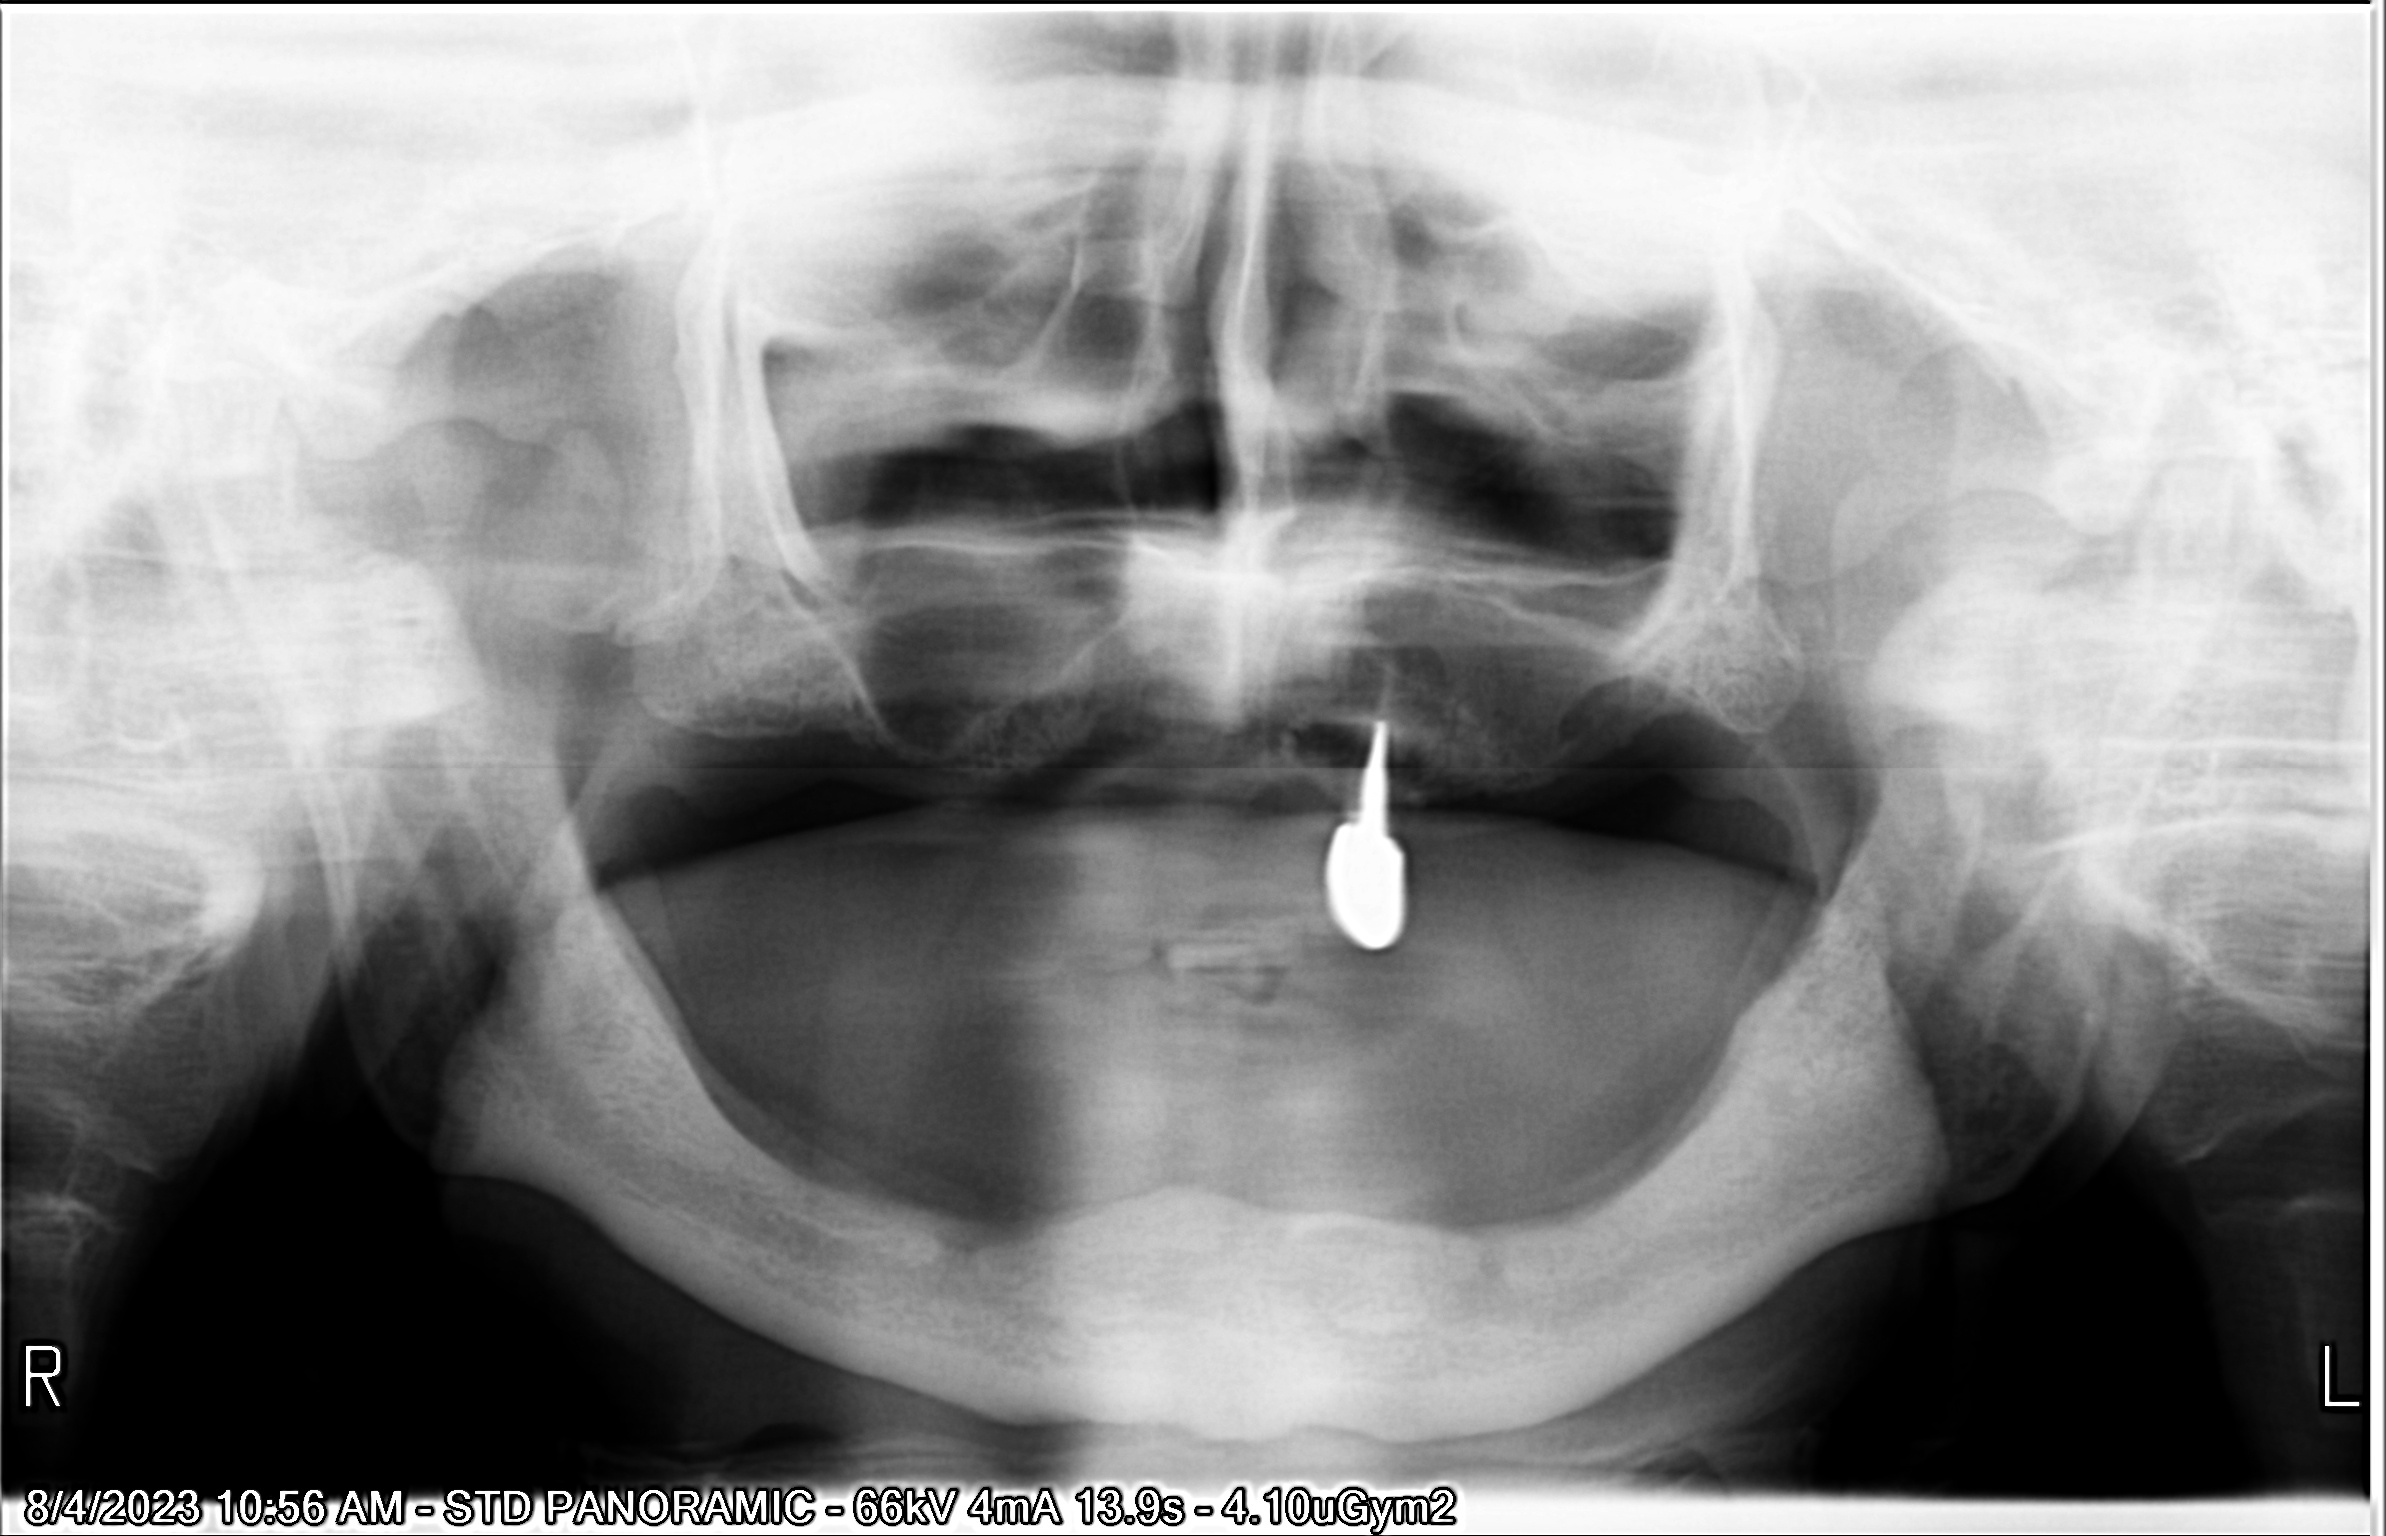API: (1350, 637, 1438, 699)
END: (1351, 711, 1402, 814)
PRR: (1318, 818, 1407, 953)
